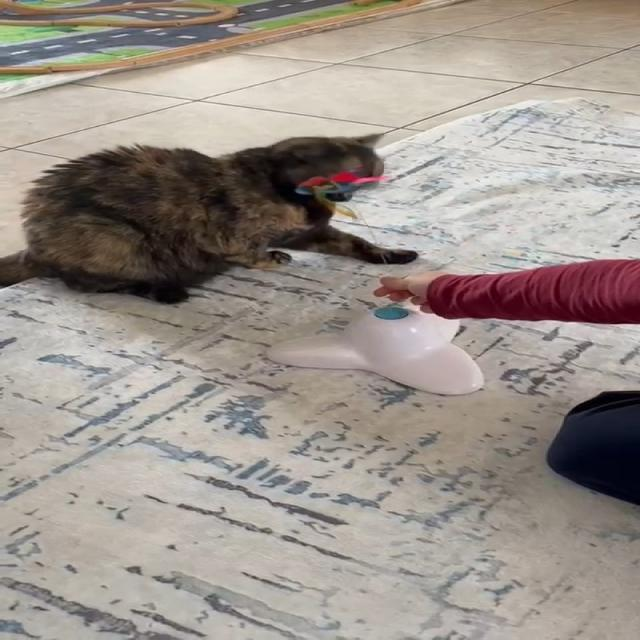authorized: (0, 131, 419, 305)
